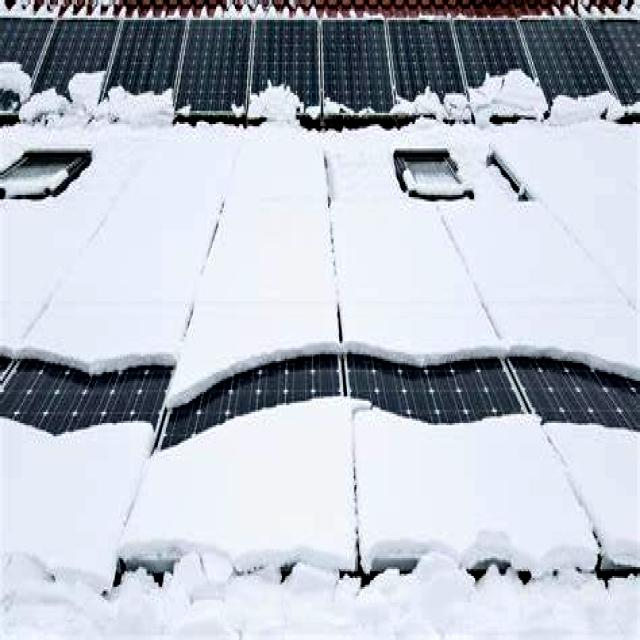panel: (277, 72, 446, 381), (464, 68, 624, 382), (1, 58, 130, 382), (361, 403, 542, 633), (168, 421, 356, 640), (0, 397, 153, 640), (153, 108, 264, 404), (554, 403, 640, 640)
